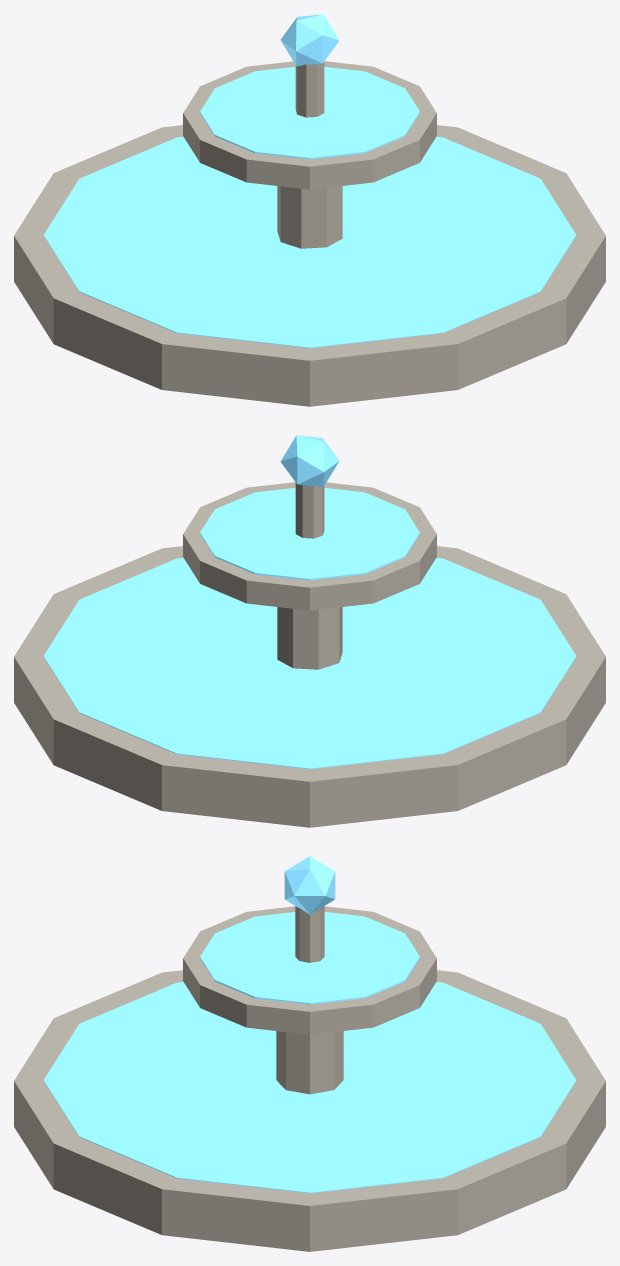
Rendered from fountain.glb.
3 views of the same model, one above another, from view 1: azimuth 30°, elevation 25°; view 2: azimuth 150°, elevation 25°; view 3: azimuth 270°, elevation 25° (orthographic).
Parts seen in each view (by area): view 1: fountain_1, fountain_0; view 2: fountain_1, fountain_0; view 3: fountain_1, fountain_0.
Boxes of the visible parts, <box> form: fountain_1: <box>43,14,576,348</box>; fountain_0: <box>14,61,605,406</box>; fountain_1: <box>43,435,576,769</box>; fountain_0: <box>14,482,605,827</box>; fountain_1: <box>43,856,576,1193</box>; fountain_0: <box>14,906,605,1251</box>.
Bounding box in the file's own units: 7 × 3.45 × 7.
